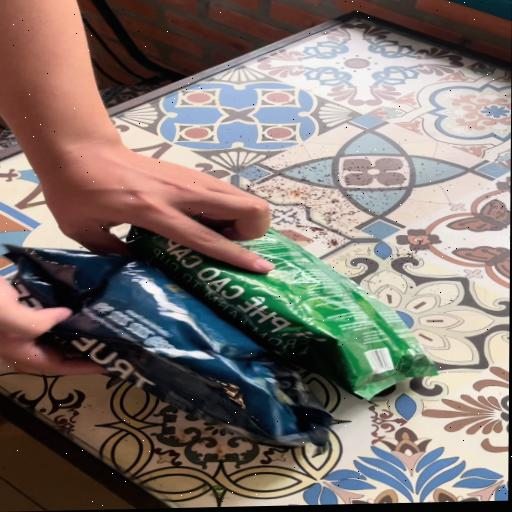cafe_hat: (6, 245, 333, 447)
cafe_xay: (127, 226, 437, 399)
